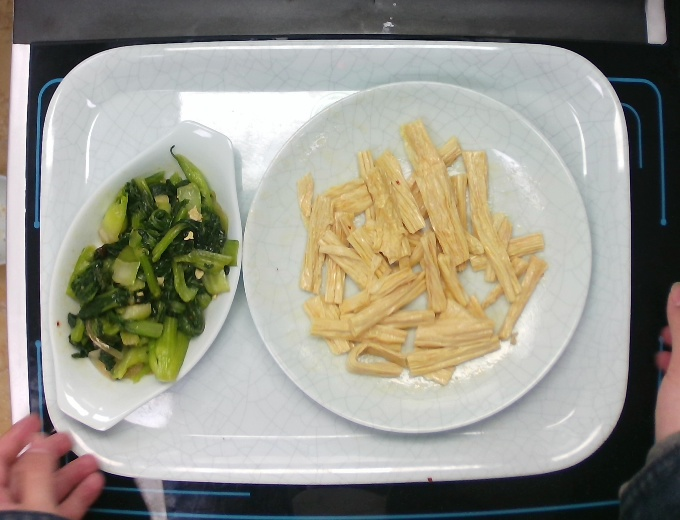JYsf-Da_Yuan_Pan: (240, 79, 594, 436)
JYsf-Yu_Pan: (45, 118, 244, 435)
